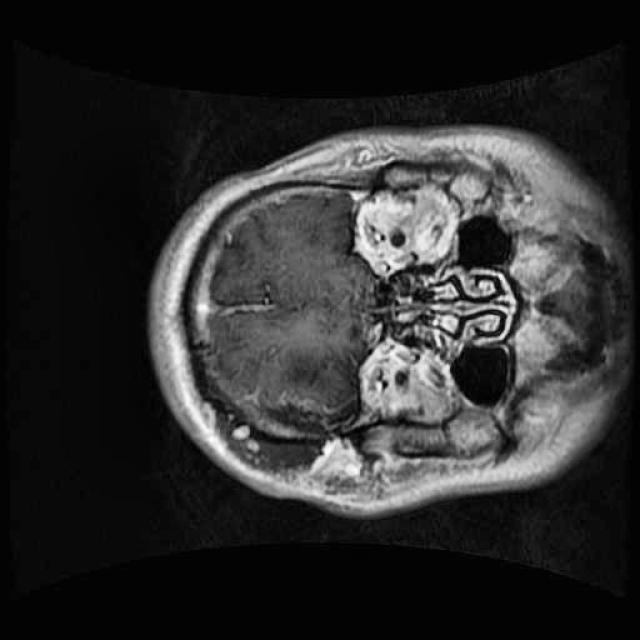Non-Tumor: (248, 381, 368, 455)
